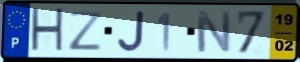1: (156, 11, 171, 52)
7: (235, 9, 269, 56)
H: (29, 6, 66, 55)
J: (116, 9, 146, 53)
N: (194, 10, 232, 54)
Z: (68, 10, 106, 52)
